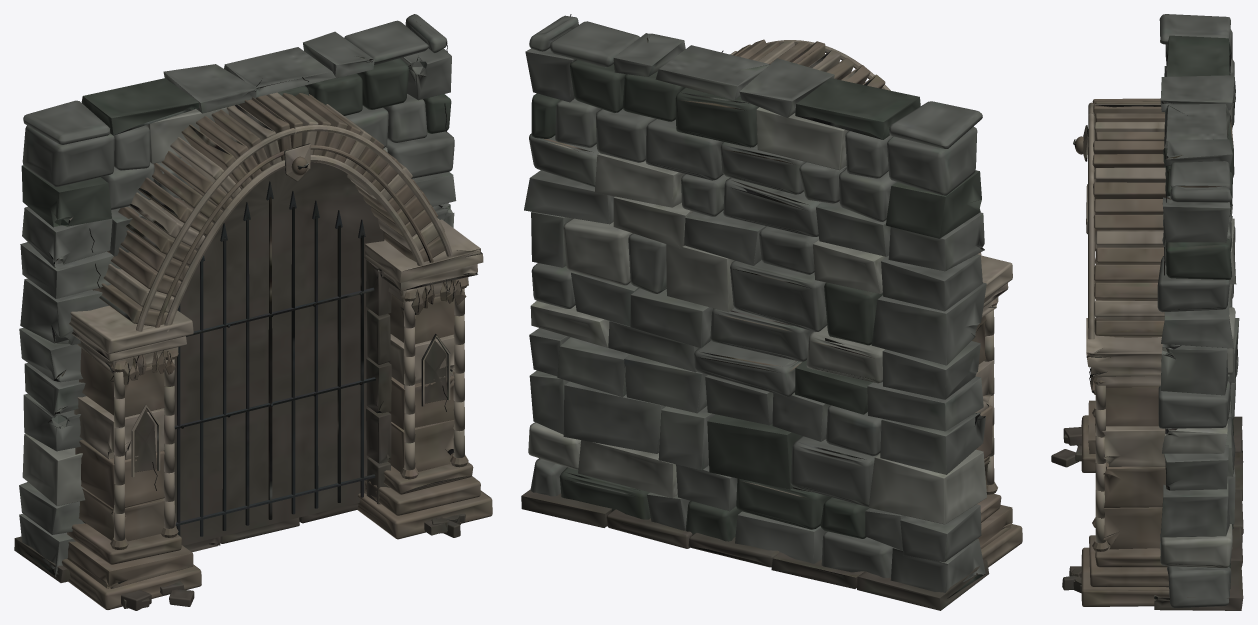
The model's file is wall-bay.glb.
3 views of the same model, side by side, from view 1: azimuth 30°, elevation 25°; view 2: azimuth 150°, elevation 25°; view 3: azimuth 270°, elevation 25° (orthographic). The views are drawn at different scales.
Parts seen in each view (by area): view 1: Body_Baked.057; view 2: Body_Baked.057; view 3: Body_Baked.057.
Part boxes in pixels (<box>): Body_Baked.057: <box>14,14,492,610</box>; Body_Baked.057: <box>521,14,1022,610</box>; Body_Baked.057: <box>1051,14,1243,610</box>.
Size of the model in its own units: 4.69 by 5 by 2.07.
Materials: 1 (1 with a texture image).
